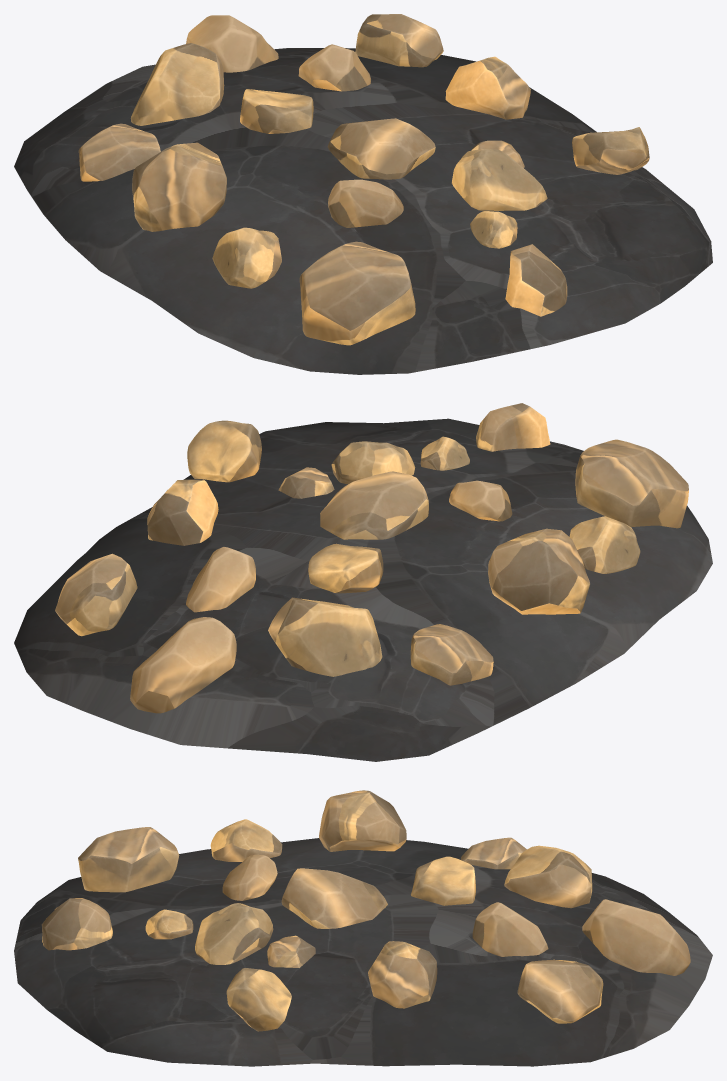
File: SM_Rock_Cluster_02.fbx
3 views of the same model, one above another, from view 1: azimuth 30°, elevation 25°; view 2: azimuth 150°, elevation 25°; view 3: azimuth 270°, elevation 25° (orthographic). The views are drawn at different scales.
Visible parts, largest first — view 1: SM_Rock_Cluster_02_LOD0; view 2: SM_Rock_Cluster_02_LOD0; view 3: SM_Rock_Cluster_02_LOD0.
Part boxes in pixels (x1=…): SM_Rock_Cluster_02_LOD0: x1=14, y1=14, x2=712, y2=374; SM_Rock_Cluster_02_LOD0: x1=14, y1=403, x2=712, y2=761; SM_Rock_Cluster_02_LOD0: x1=14, y1=790, x2=712, y2=1066.
Size of the model in its own units: 161 by 215 by 36.33.
